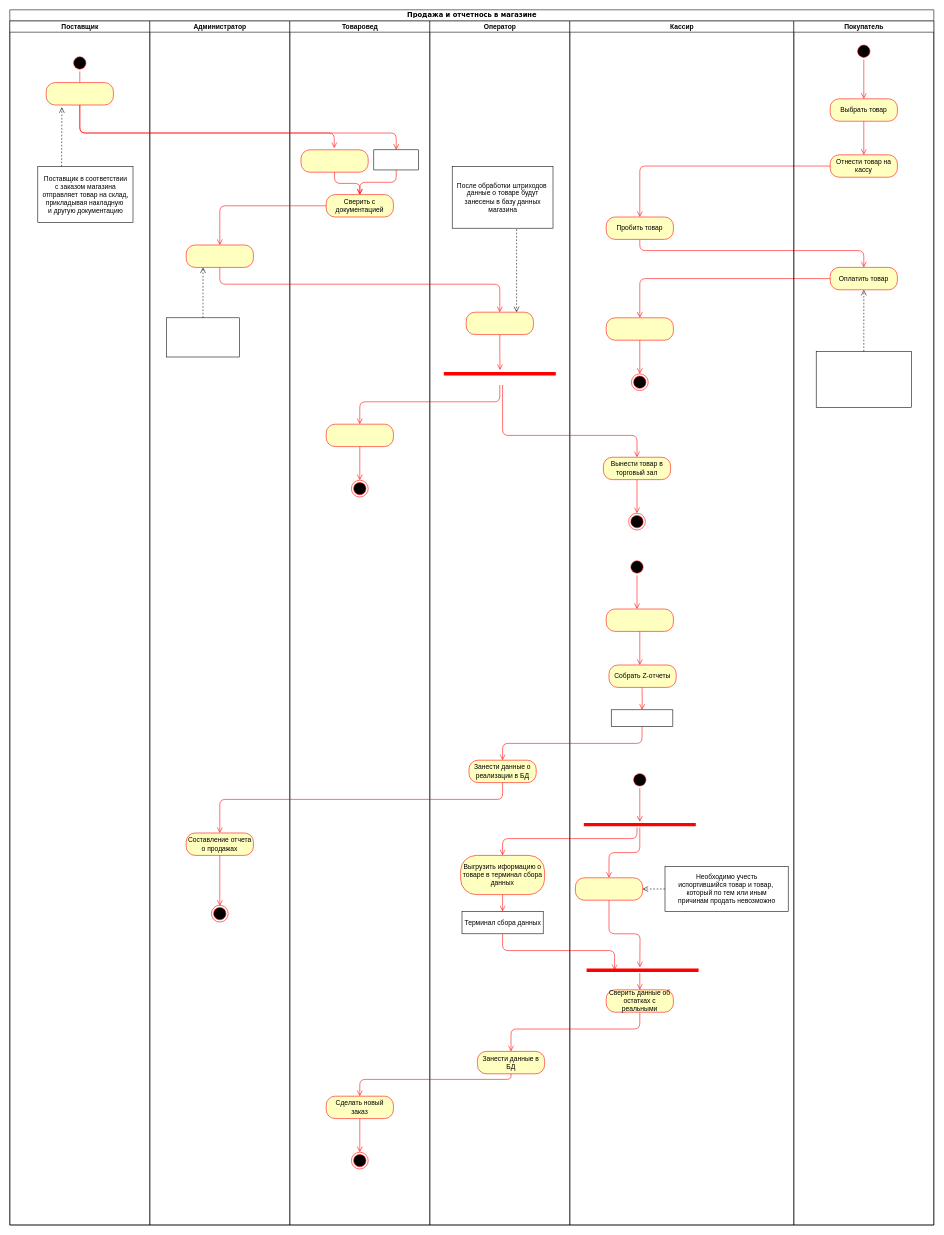
The diagram is 944 pixels wide and 1235 high, and some of its shapes have lost their labels. The shapes that lost their labels are listed below. From the top down, each one's centre as x and y in pixels, then its label:
At (79,93): "Отправить партию товара".
At (334,160): "Принять товар".
At (396,159): "Накладная".
At (219,255): "Расчитать розничную цену".
At (202,337): "Здесь учитываются и акции в соответствии с ценовой политикой компании".
At (499,323): "Обработка штрихкодов".
At (639,328): "Выда ть чек".
At (863,379): "Подразумеваются различные типы оплаты".
At (359,435): "Составить товарный отчет".
At (639,619): "Закрыть кассы".
At (642,718): "Z-отчет".
At (609,888): "Подготовить товар к инвентаризации".
